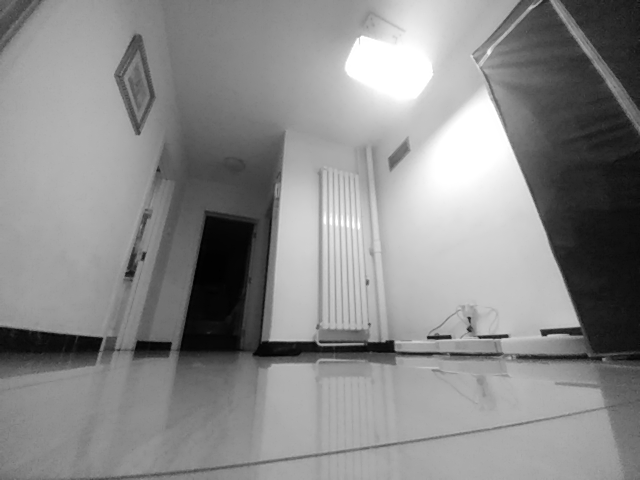others: (253, 341, 304, 356)
